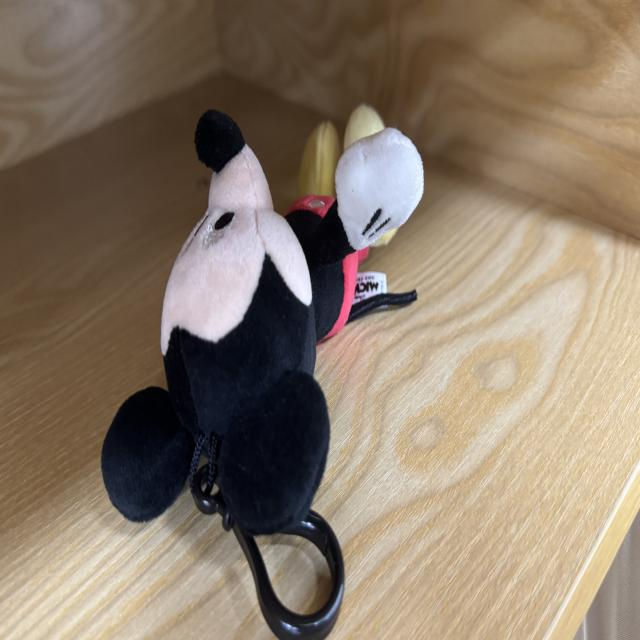mickey: (102, 111, 423, 534)
